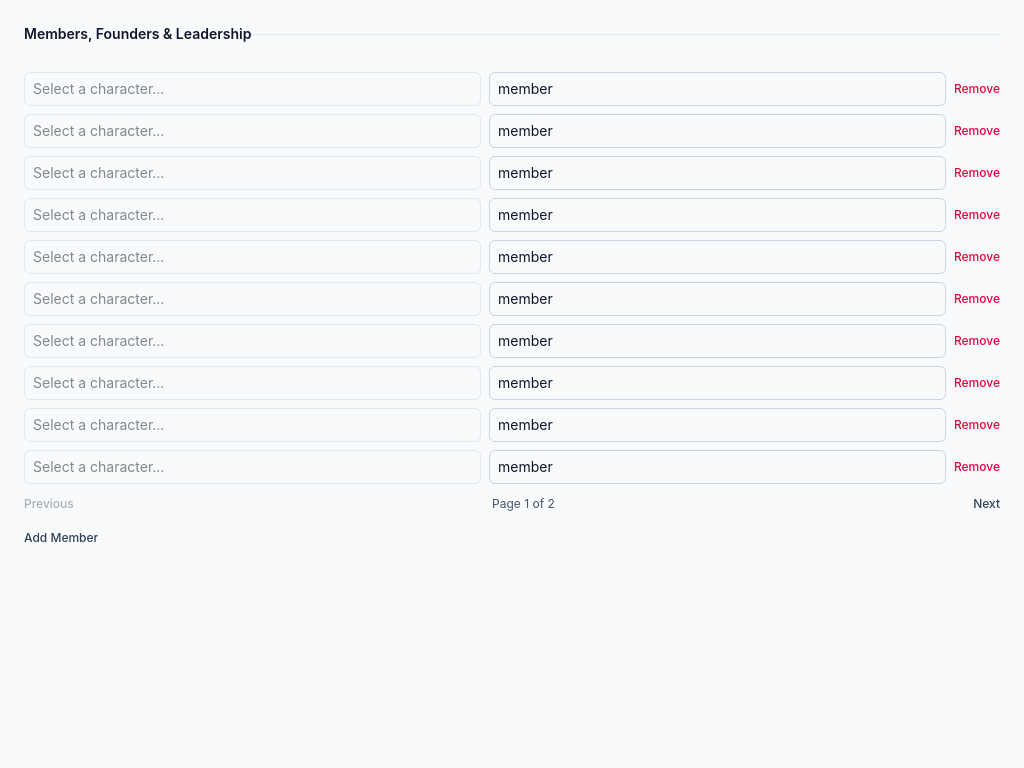
Test: FactionMembersEditor › paginates member rows instead of rendering all of them at once when there are many
Expected: the text "Page 1 of 2" is shown, [492, 496, 555, 512]
Step 1. Click the button with aria-label "Next page" → x=987, y=504, box [973, 496, 1000, 512]
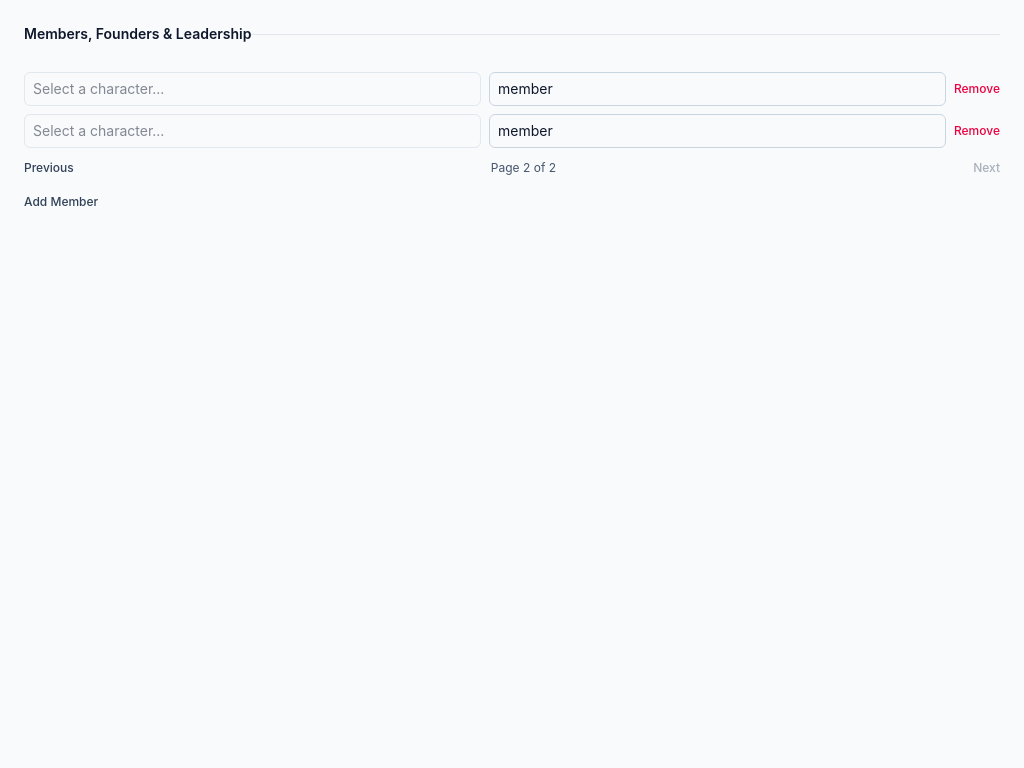
Expected: the number of dropdowns named "Member character" is 2, [24, 72, 481, 106]; [24, 114, 481, 148]
Expected: the text "Page 2 of 2" is shown, [491, 160, 556, 176]
